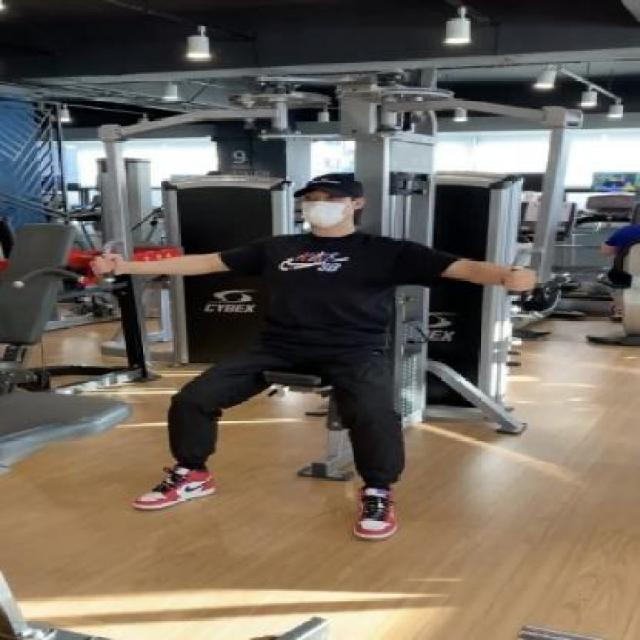chest fly machine: (0, 51, 640, 572)
